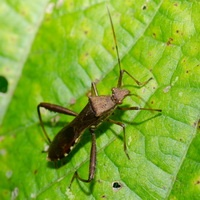insect: (37, 7, 152, 185), (39, 106, 76, 142)
